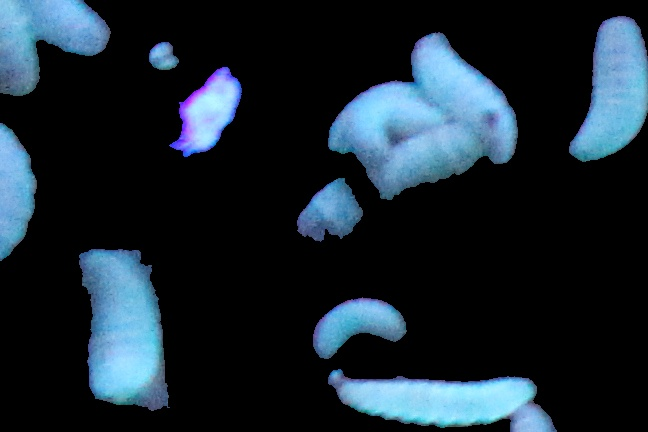larvae: (295, 128, 488, 241), (77, 247, 170, 401), (413, 30, 515, 164), (566, 15, 648, 161), (339, 372, 539, 429), (326, 83, 459, 159), (313, 299, 406, 361)
